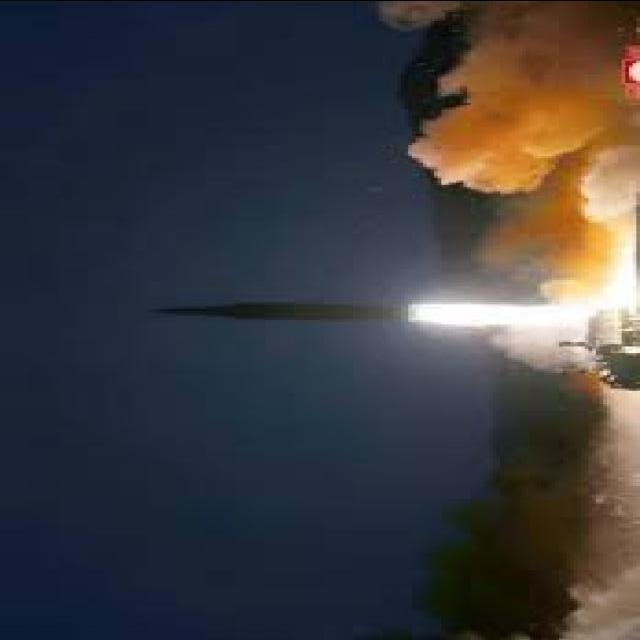missile: (146, 290, 421, 344)
